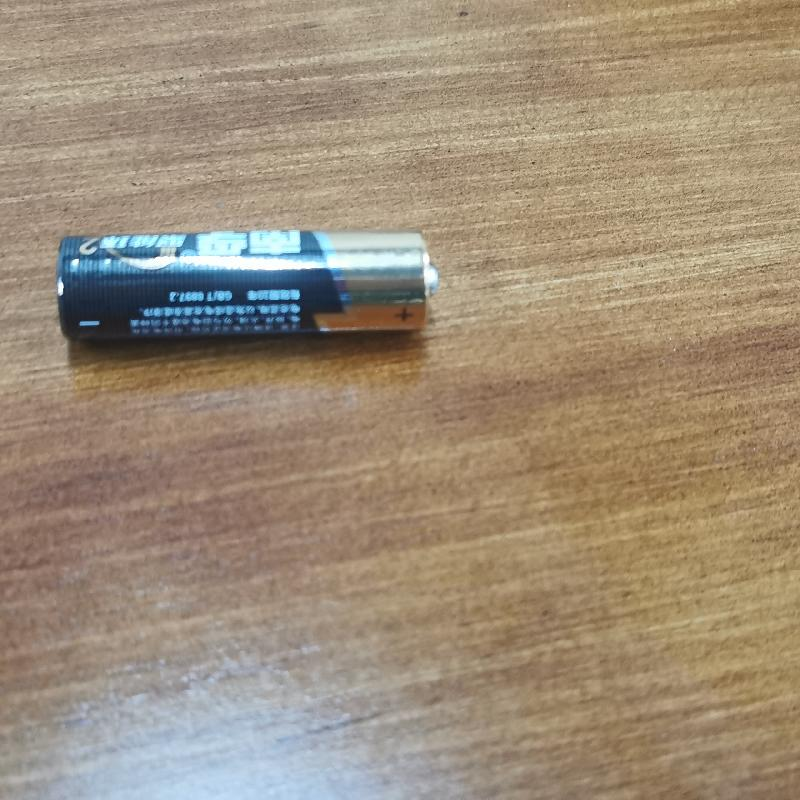battery: (57, 224, 451, 354)
